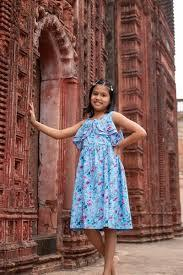Human: (24, 57, 156, 273)
